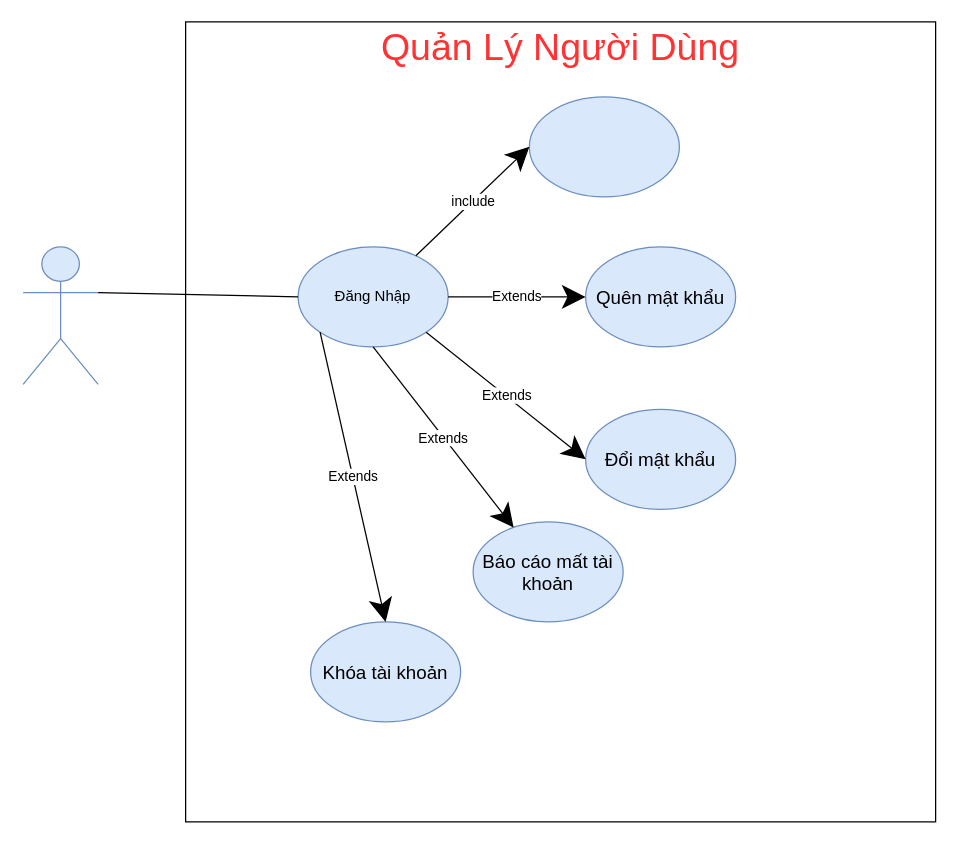
Some shapes in this 958 by 844 pixel diagram are drawn without their labels. Each missing label, with the centre of its shape:
KhachHang: pixel 60 315
Đăng Ký: pixel 603 146
